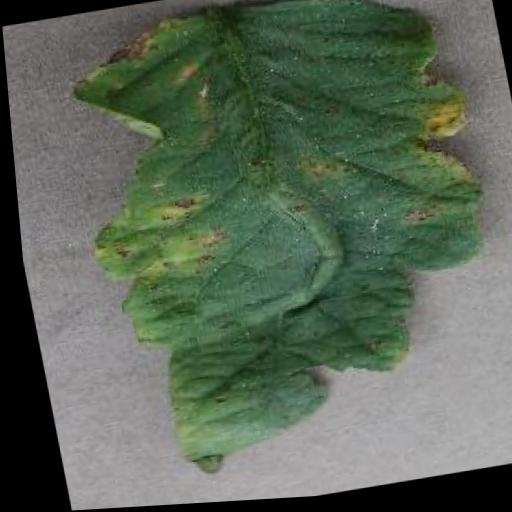Bacterial Spot: (44, 0, 512, 499)
